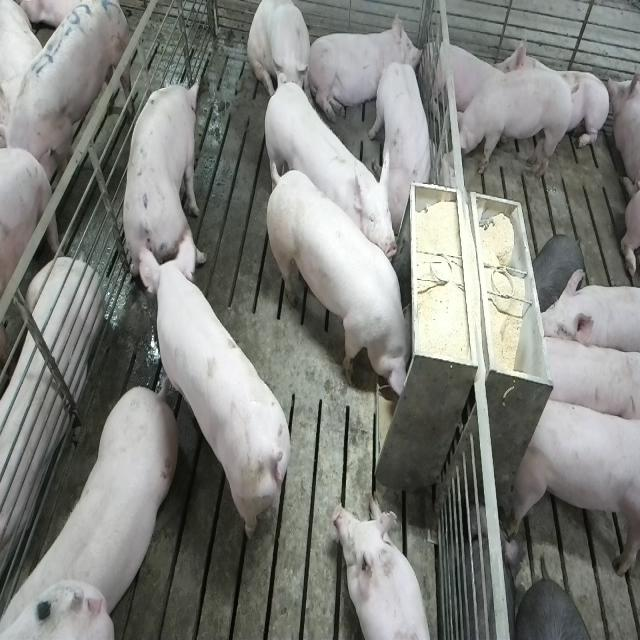Feeding: (269, 164, 422, 406)
Sitting: (248, 1, 312, 108)
Standing: (142, 238, 296, 550), (6, 376, 183, 633), (0, 0, 131, 203), (260, 79, 397, 268), (508, 391, 638, 584), (122, 72, 206, 280), (449, 76, 577, 180), (370, 59, 430, 224), (536, 332, 637, 429), (537, 268, 640, 354)
Sternal_lying: (0, 142, 102, 577), (335, 499, 436, 640), (498, 30, 608, 156), (309, 11, 422, 124), (427, 34, 503, 121)
